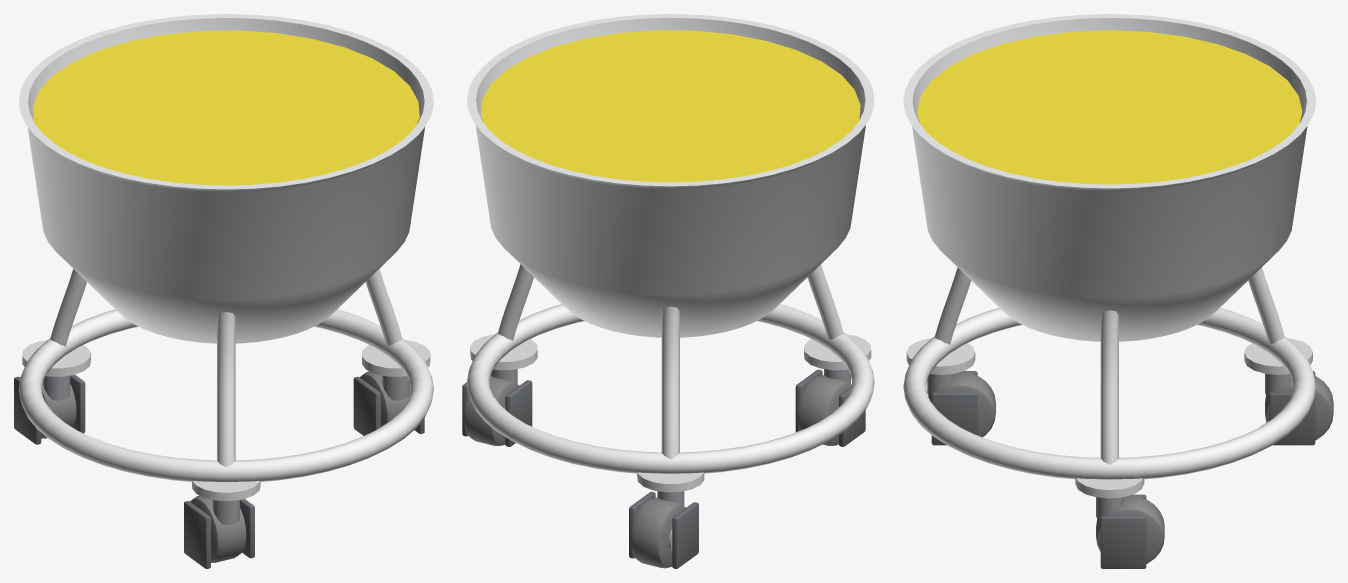
Rendered from KickBucket.fbx.
3 renders of one model, left to right at view 1: azimuth 30°, elevation 25°; view 2: azimuth 150°, elevation 25°; view 3: azimuth 270°, elevation 25°, orthographic.
Parts seen in each view (by area): view 1: KickBucket_Mesh; view 2: KickBucket_Mesh; view 3: KickBucket_Mesh.
Boxes of the visible parts, bbox=[...] form: KickBucket_Mesh: bbox=[14, 14, 433, 568]; KickBucket_Mesh: bbox=[462, 14, 874, 568]; KickBucket_Mesh: bbox=[903, 14, 1333, 568].
Size of the model in its own units: 0.38 by 0.365 by 0.3752.
